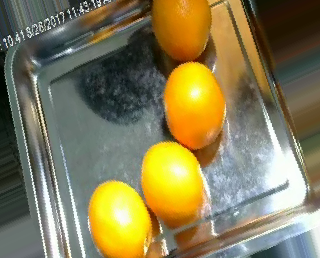Orange: (162, 61, 225, 150), (141, 140, 205, 226), (88, 179, 153, 258), (150, 1, 211, 59)
